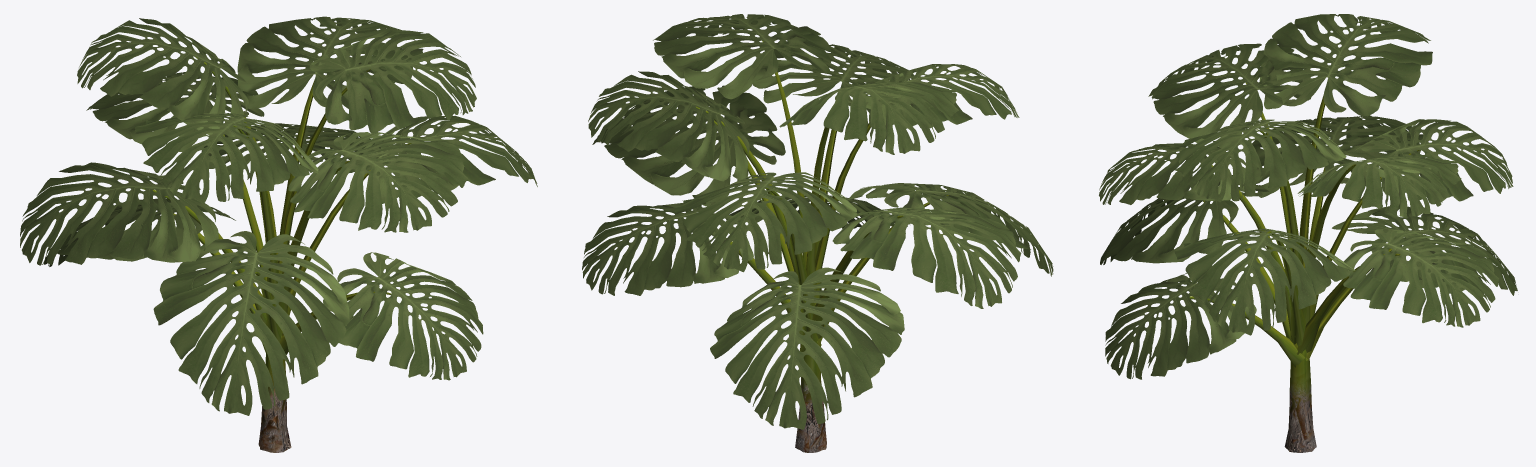
Rendered from tropical.fbx.
The picture shows the model from 3 angles, left to right: view 1: azimuth 30°, elevation 25°; view 2: azimuth 150°, elevation 25°; view 3: azimuth 270°, elevation 25°; orthographic projection. The views are drawn at different scales.
Parts seen in each view (by area): view 1: Tree_1, Tree_2, Tree_0; view 2: Tree_1, Tree_2, Tree_0; view 3: Tree_1, Tree_2, Tree_0.
Boxes of the visible parts, <box> form: Tree_1: <box>20,16,537,415</box>; Tree_2: <box>141,57,411,354</box>; Tree_0: <box>258,351,291,452</box>; Tree_1: <box>582,14,1053,429</box>; Tree_2: <box>696,40,949,351</box>; Tree_0: <box>795,342,826,452</box>; Tree_1: <box>1099,14,1517,379</box>; Tree_2: <box>1189,82,1419,367</box>; Tree_0: <box>1284,343,1316,452</box>.
Bounding box in the file's own units: 130 × 109 × 112.
Materials: 3 (3 with a texture image).
